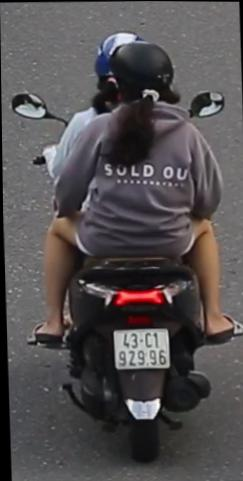LP: (109, 325, 171, 375)
helmet: (112, 40, 174, 104), (91, 28, 146, 74)
